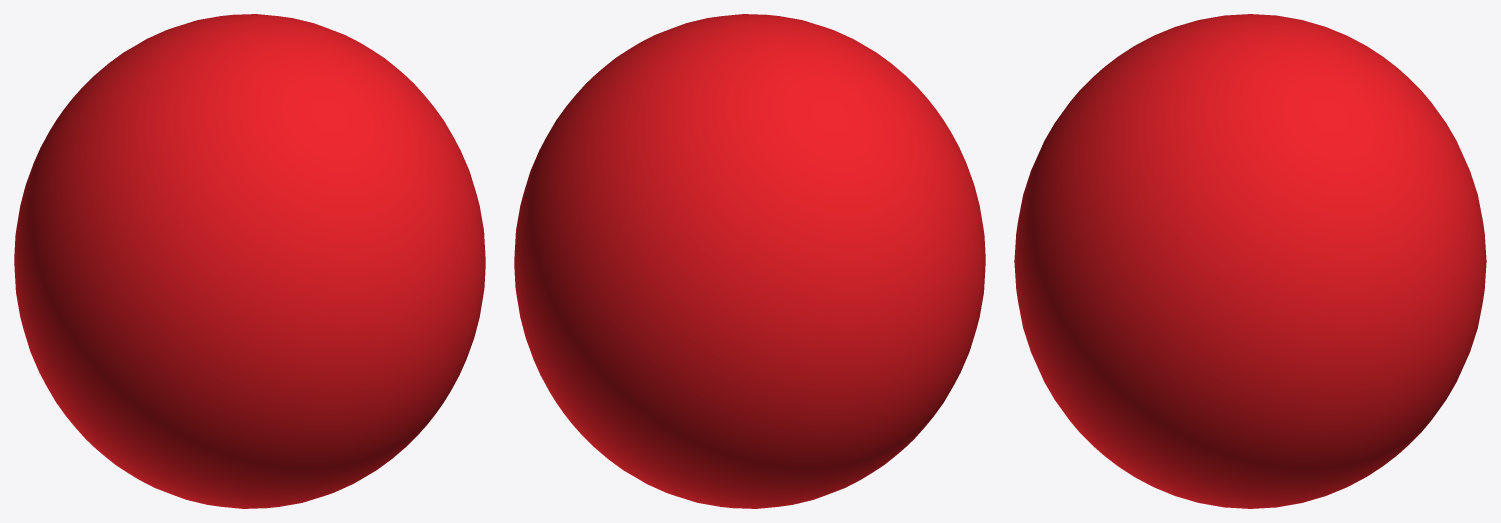
File: asset.glb
3 renders of one model, left to right at view 1: azimuth 30°, elevation 25°; view 2: azimuth 150°, elevation 25°; view 3: azimuth 270°, elevation 25°, orthographic.
Parts seen in each view (by area): view 1: mesh_id30; view 2: mesh_id30; view 3: mesh_id30.
Part boxes in pixels (x1=…): mesh_id30: x1=14, y1=14, x2=485, y2=508; mesh_id30: x1=514, y1=14, x2=985, y2=508; mesh_id30: x1=1014, y1=14, x2=1486, y2=508.
Bounding box in the file's own units: 0.0797 × 0.0845 × 0.0797.
1 material, 1 textured.
